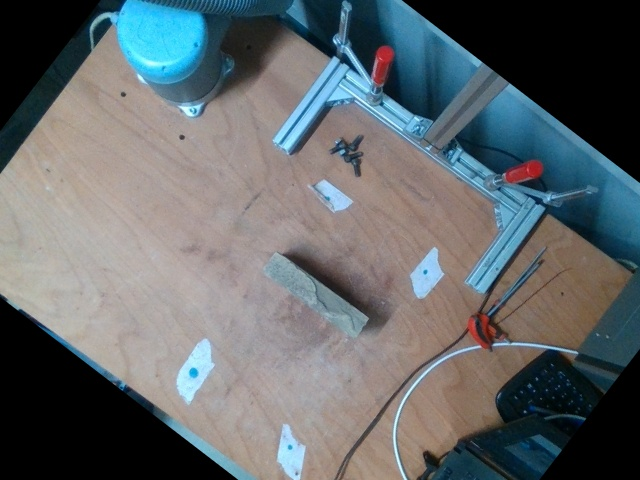brick-side: (262, 253, 367, 337)
